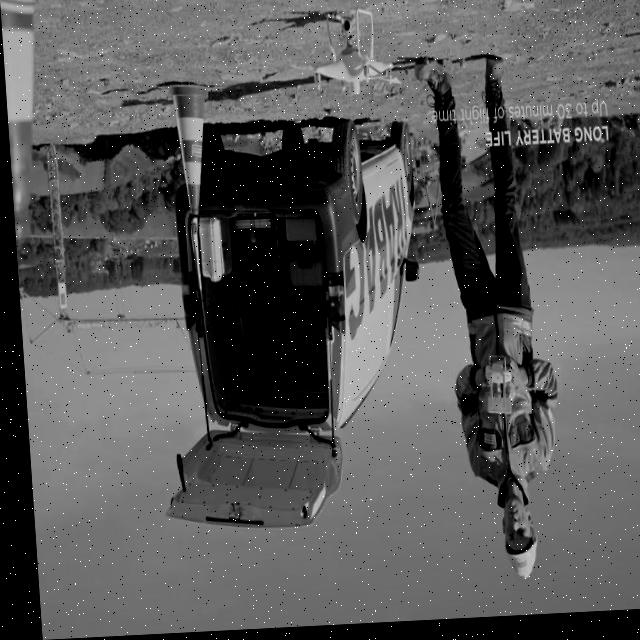drone: (305, 9, 403, 102)
